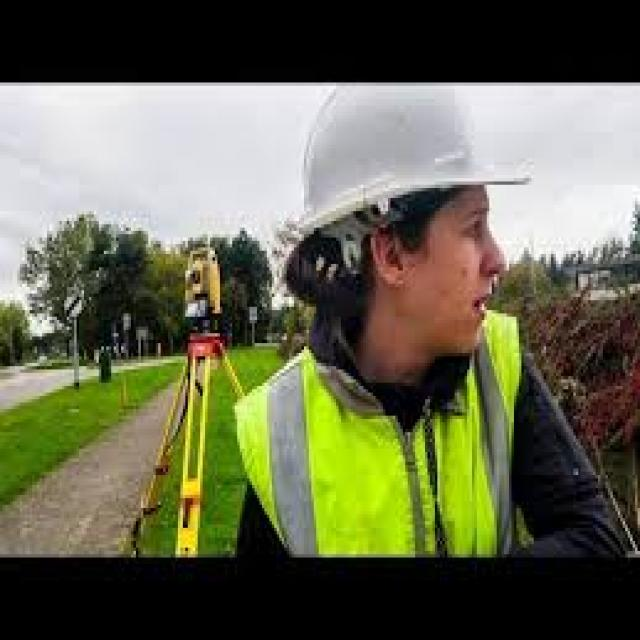Reflective-Jacket: (227, 313, 546, 571)
Safety-Helmet: (284, 86, 529, 244)
